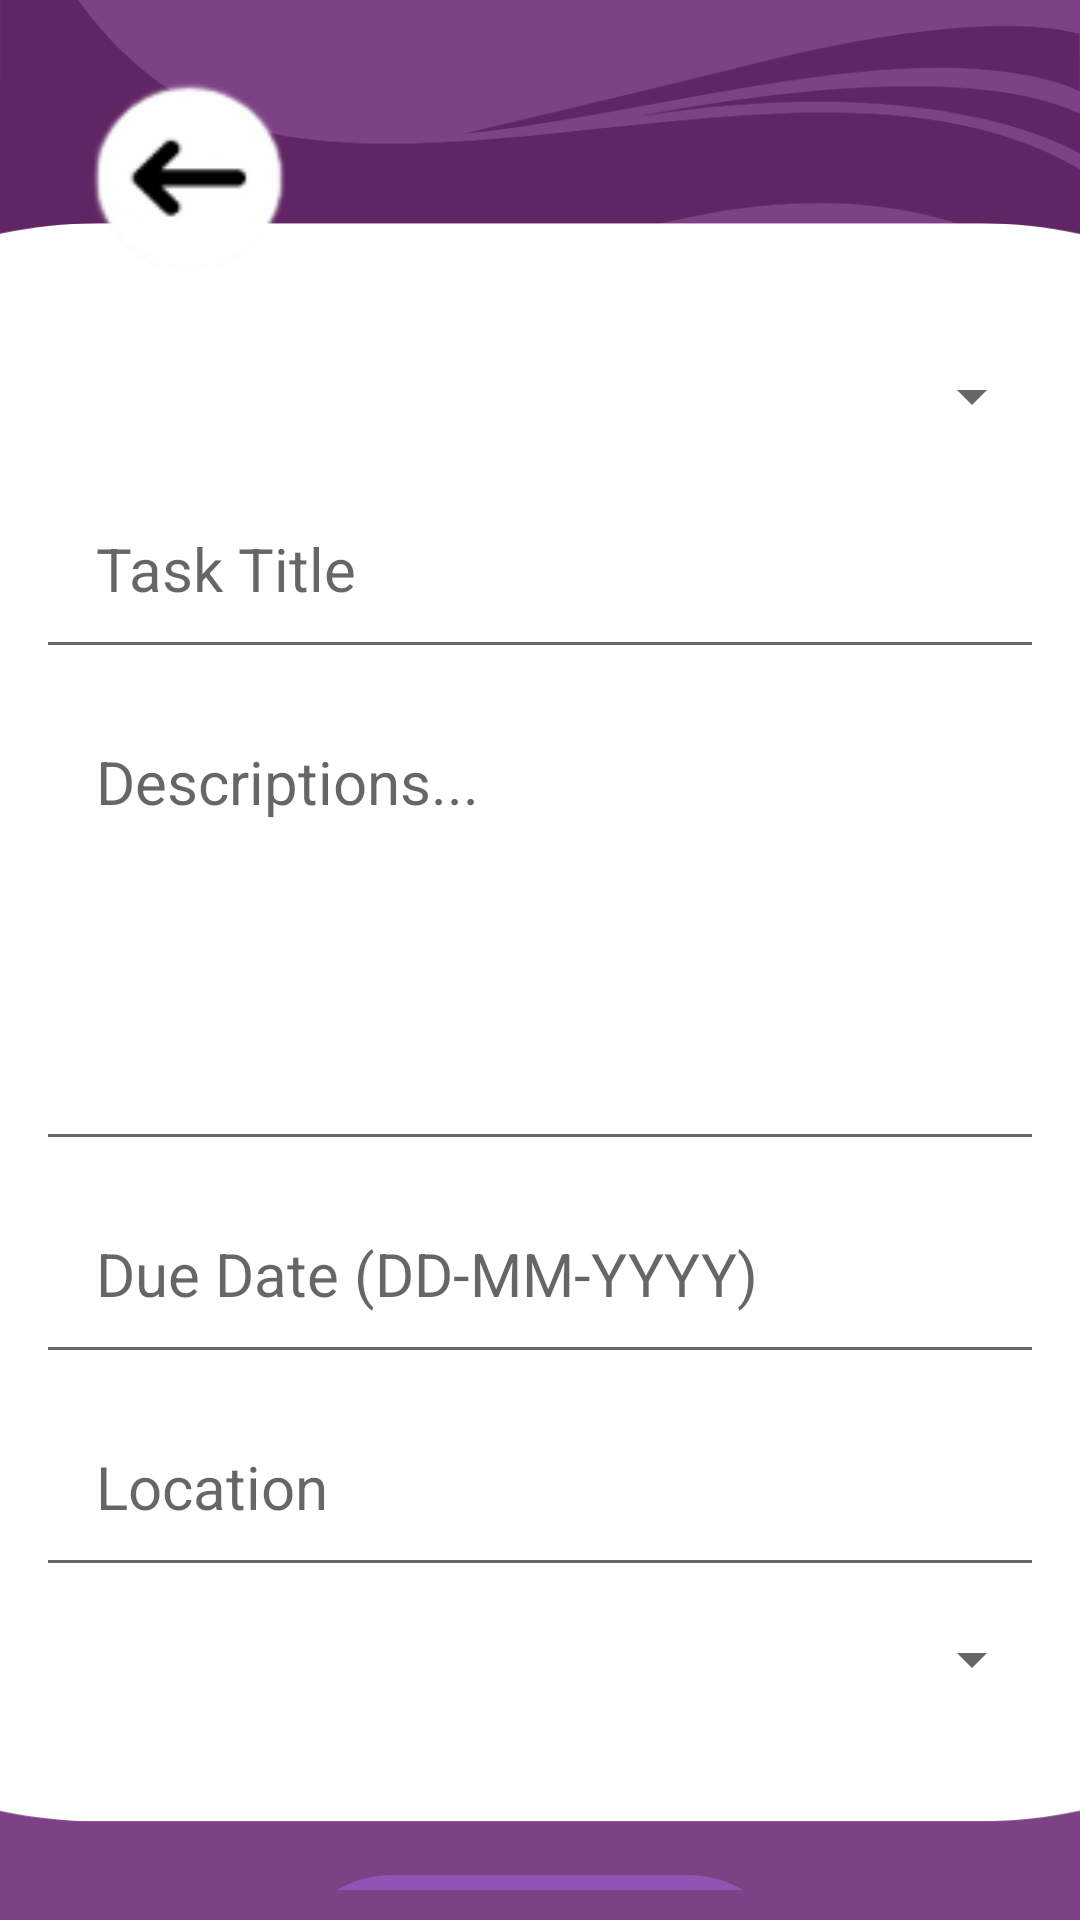

Named icons in this screenshot (1080×1920) and their centers, point (x, y):
Back: point (180, 180)
